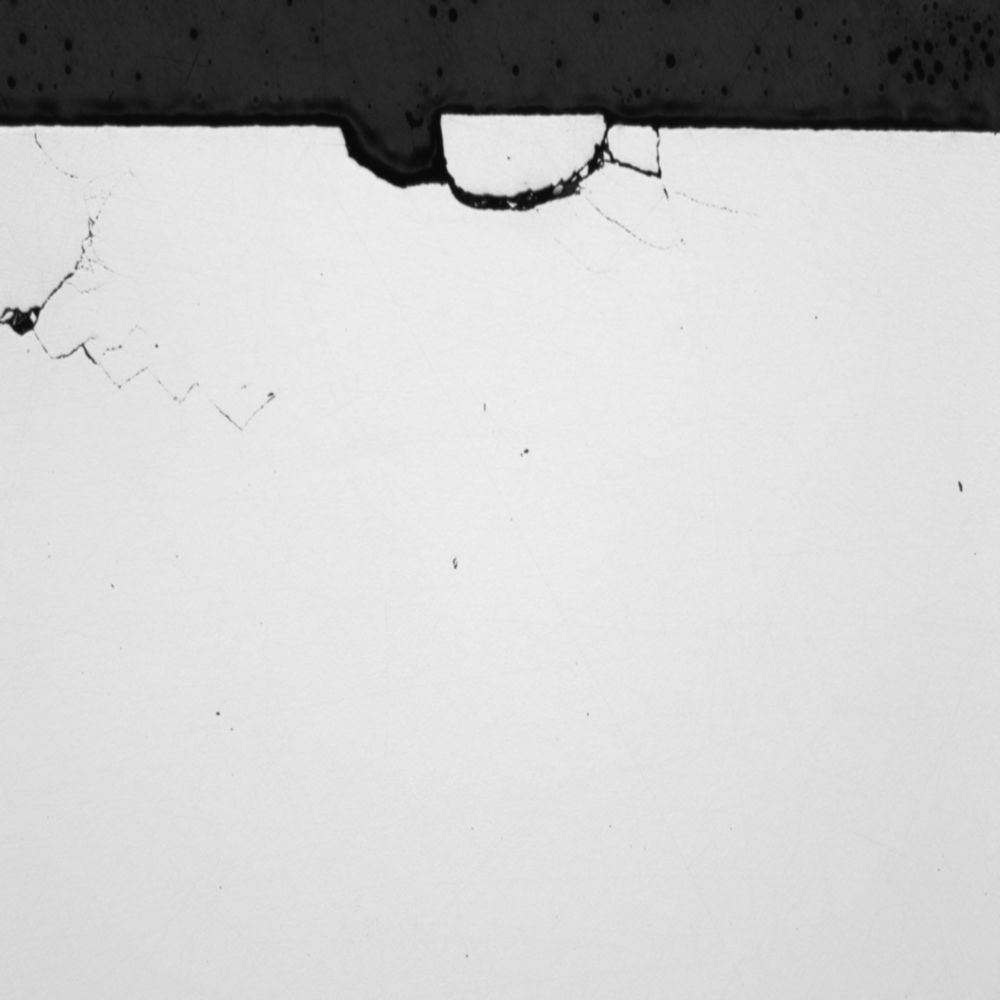crack: (1, 212, 301, 455), (320, 101, 691, 206)
